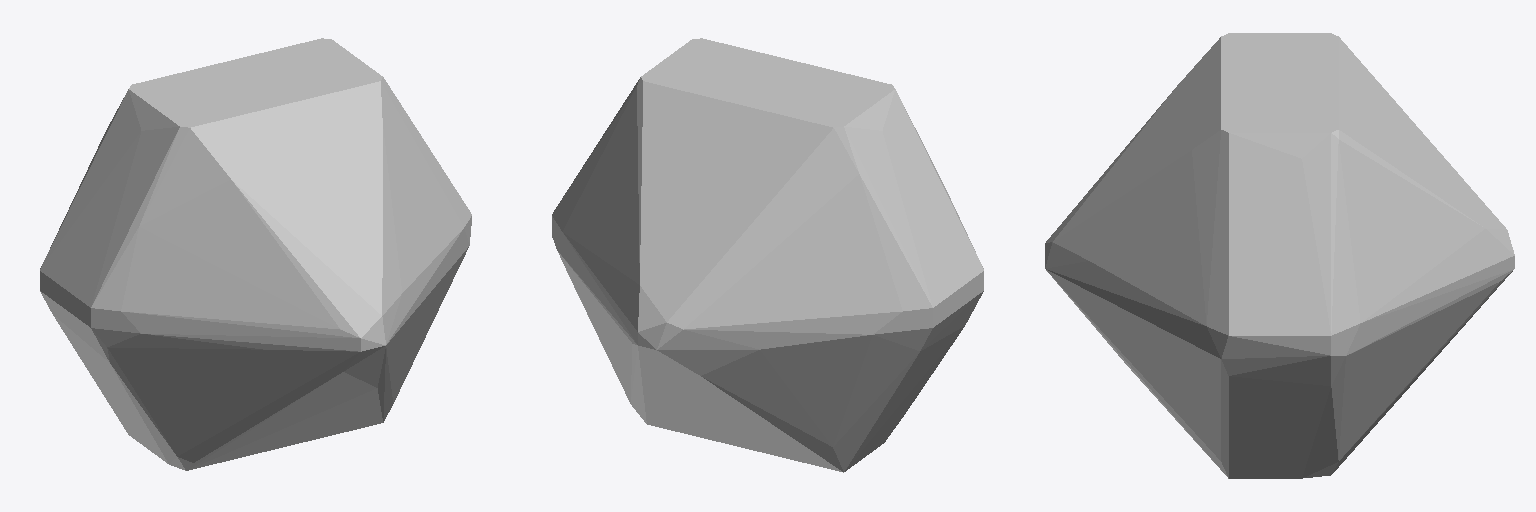
Rendered from Diamond_Hex_decimated.obj.
3 views of the same model, side by side, from view 1: azimuth 30°, elevation 25°; view 2: azimuth 150°, elevation 25°; view 3: azimuth 270°, elevation 25° (orthographic).
Parts seen in each view (by area): view 1: convex_0; view 2: convex_0; view 3: convex_0.
Boxes of the visible parts, x1=… form: convex_0: x1=40, y1=38, x2=471, y2=470; convex_0: x1=552, y1=38, x2=983, y2=472; convex_0: x1=1045, y1=33, x2=1514, y2=478.
Size of the model in its own units: 29.58 by 25.64 by 31.55.